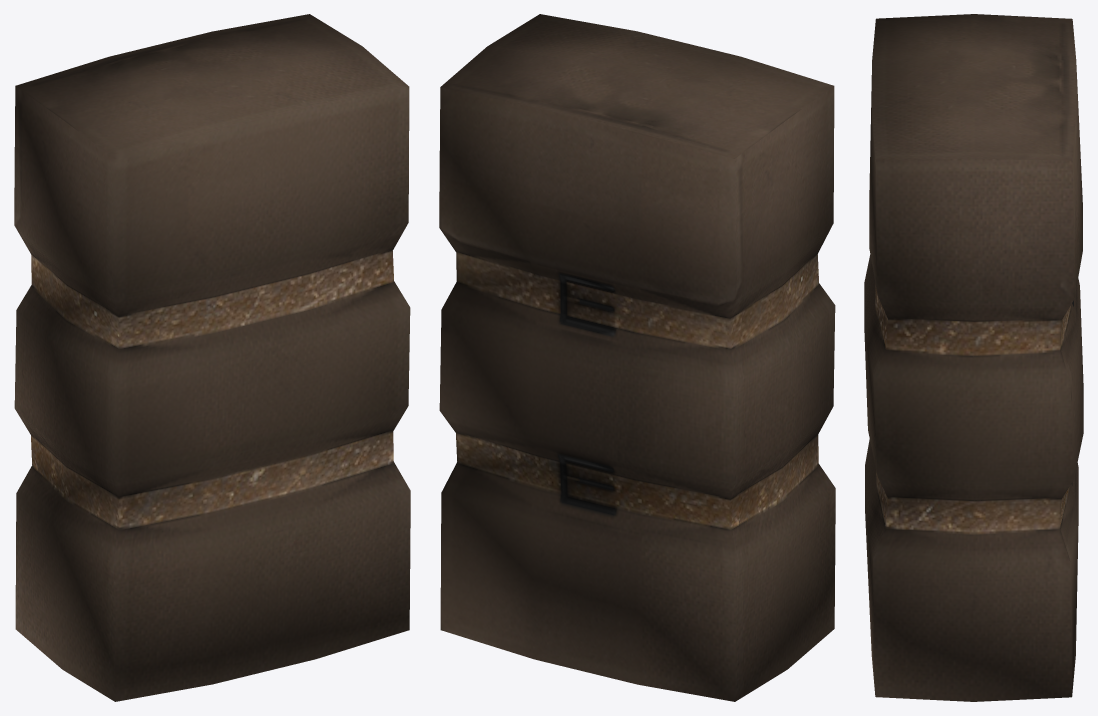
Rendered from PA_Parachute.fbx.
3 views of the same model, side by side, from view 1: azimuth 30°, elevation 25°; view 2: azimuth 150°, elevation 25°; view 3: azimuth 270°, elevation 25° (orthographic).
Parts seen in each view (by area): view 1: PA_ParachuteBackpack; view 2: PA_ParachuteBackpack; view 3: PA_ParachuteBackpack.
Part boxes in pixels (<box>): PA_ParachuteBackpack: <box>14,14,410,701</box>; PA_ParachuteBackpack: <box>439,14,835,701</box>; PA_ParachuteBackpack: <box>864,14,1083,701</box>.
Bounding box in the file's own units: 0.5055 × 0.8876 × 0.3139.
